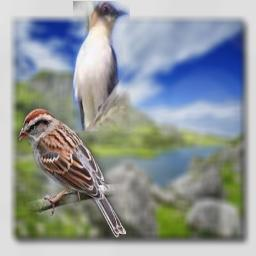Cuckoo: (73, 1, 130, 131)
Sparrow: (17, 108, 126, 238)
